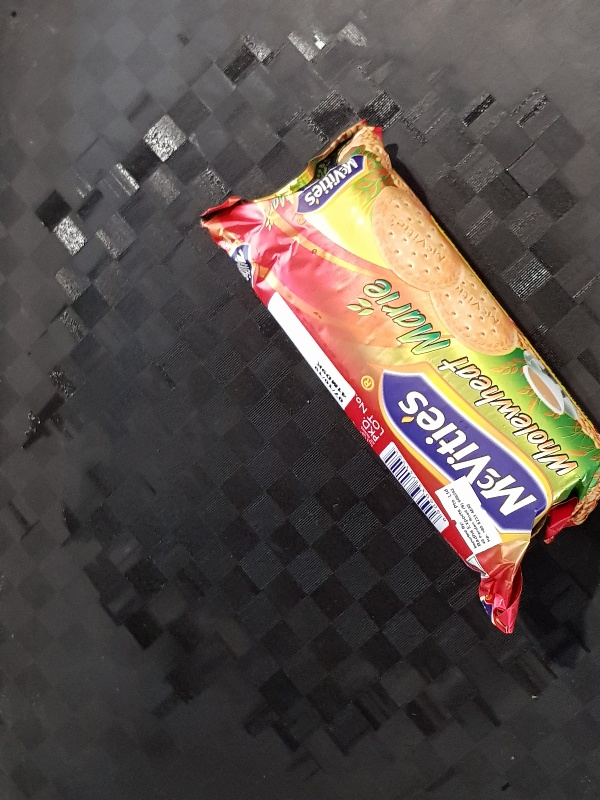McVitie's Wholewheat Marie: (199, 118, 600, 640)
